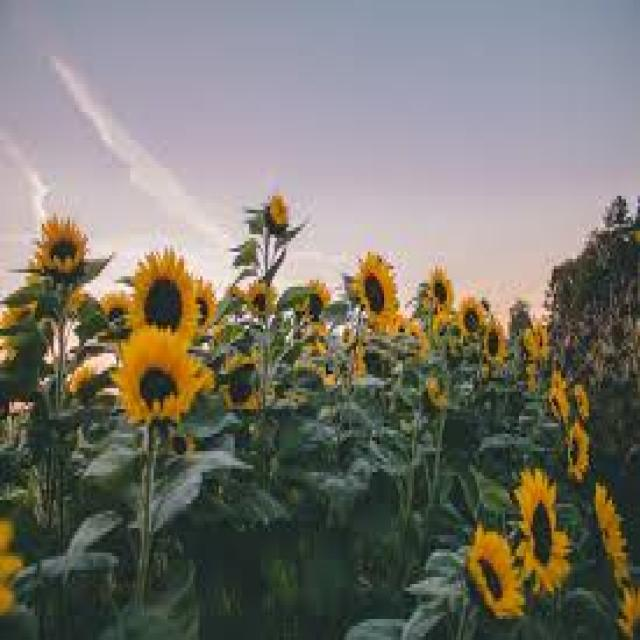sunflower: (118, 240, 208, 348), (508, 453, 566, 614), (116, 316, 202, 422), (463, 520, 526, 624), (352, 245, 410, 339), (29, 204, 94, 282), (562, 407, 595, 481), (423, 250, 454, 324), (259, 184, 294, 244), (484, 315, 512, 367)
